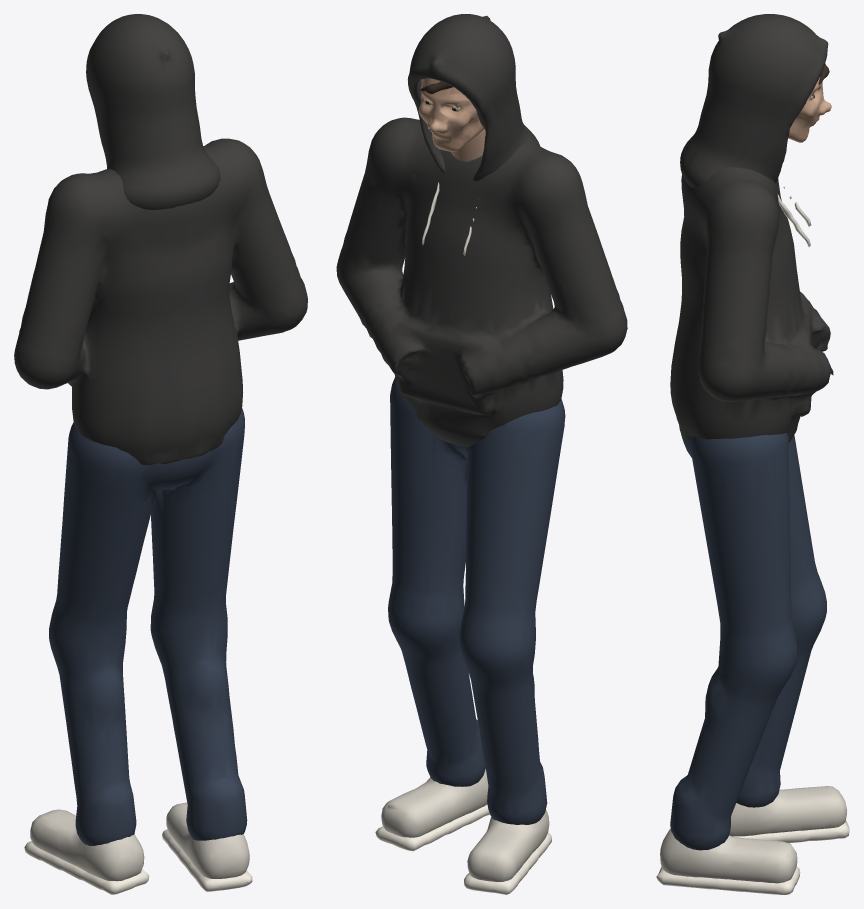
File: hoodie_juke.glb
3 renders of one model, left to right at view 1: azimuth 30°, elevation 25°; view 2: azimuth 150°, elevation 25°; view 3: azimuth 270°, elevation 25°, orthographic.
Parts seen in each view (by area): view 1: hoodie_juke_body, hoodie_juke_head; view 2: hoodie_juke_body, hoodie_juke_head; view 3: hoodie_juke_body, hoodie_juke_head.
Boxes of the visible parts, box(x1,y1,x2,y2) form: hoodie_juke_body: box(14, 138, 307, 894); hoodie_juke_head: box(86, 14, 220, 209); hoodie_juke_body: box(336, 117, 627, 894); hoodie_juke_head: box(407, 14, 539, 181); hoodie_juke_body: box(656, 167, 849, 894); hoodie_juke_head: box(680, 14, 831, 187).
Size of the model in its own units: 0.5982 by 1.69 by 0.3509.
